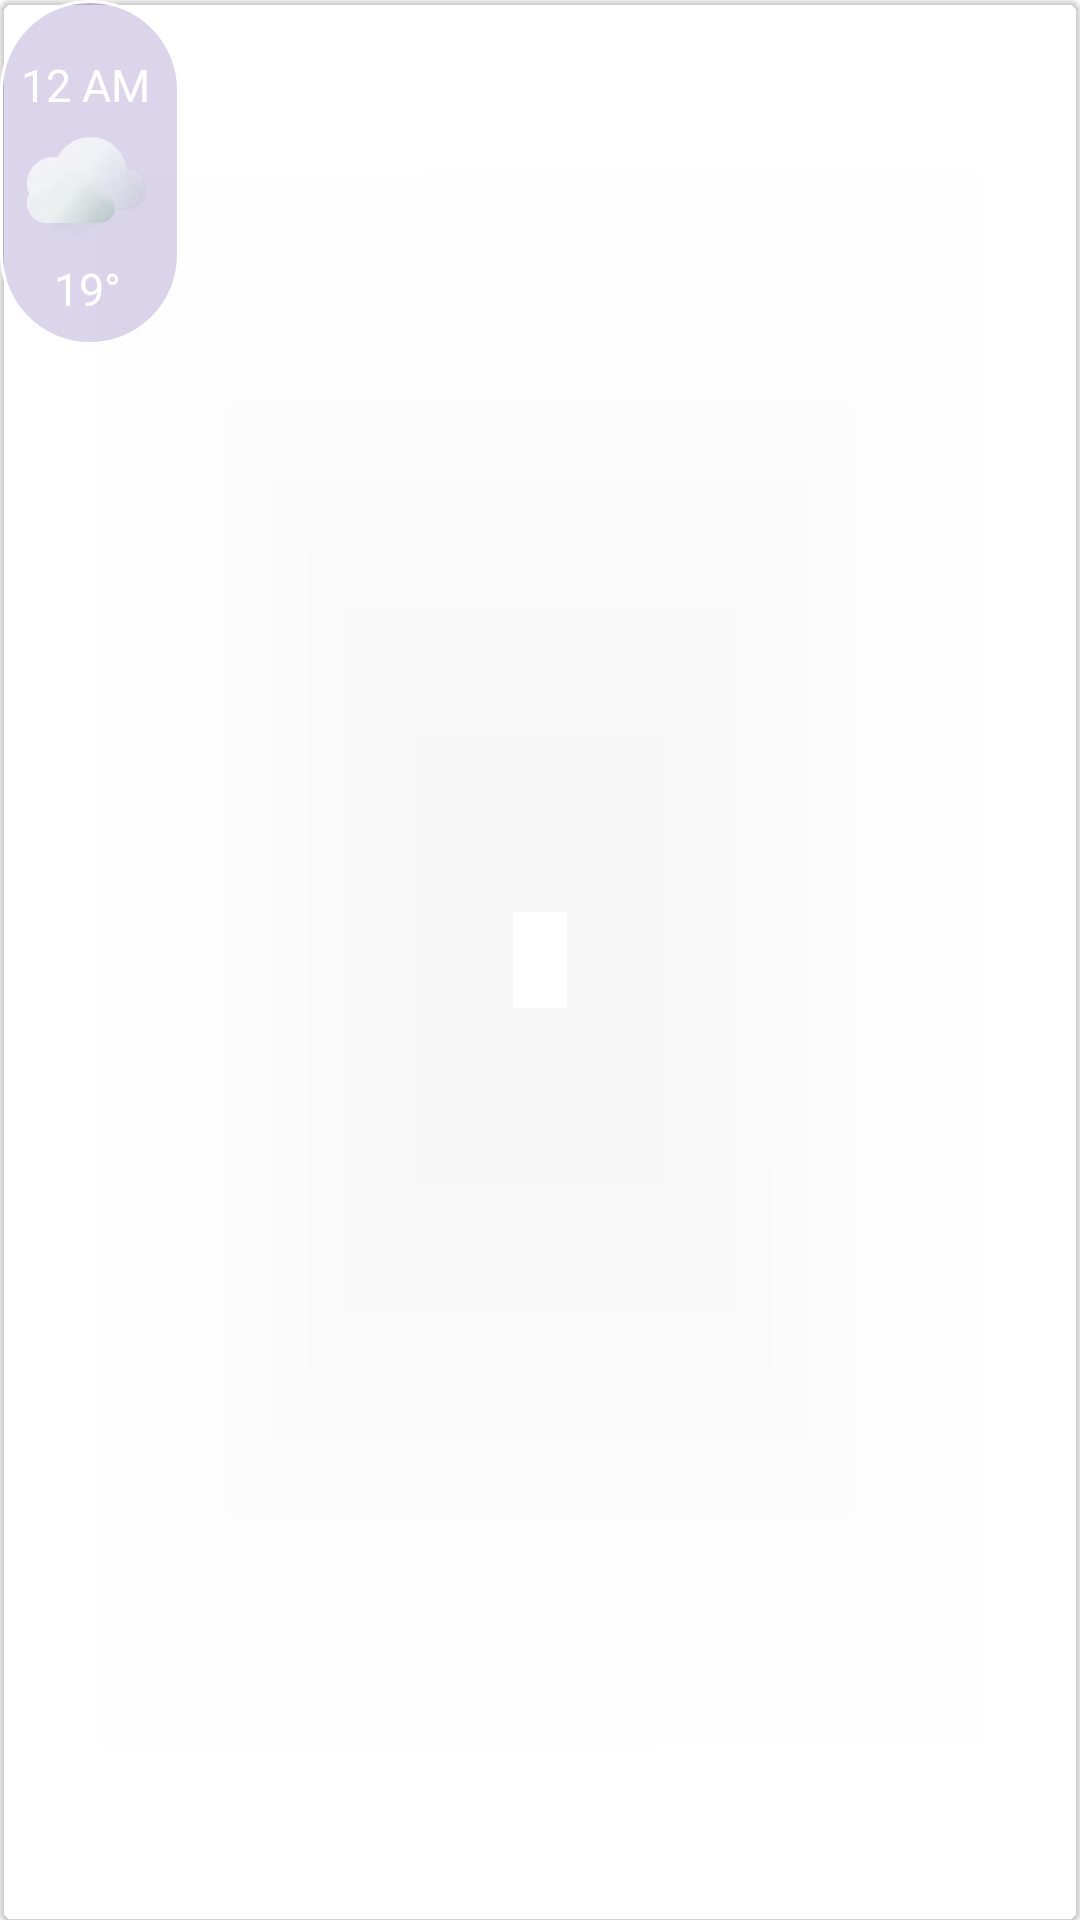

Locate icon controls on the screen. Image size 1080px x 1920px, boxes as (x1, y1, x2, y2).
cloud: (27, 138, 115, 223)
